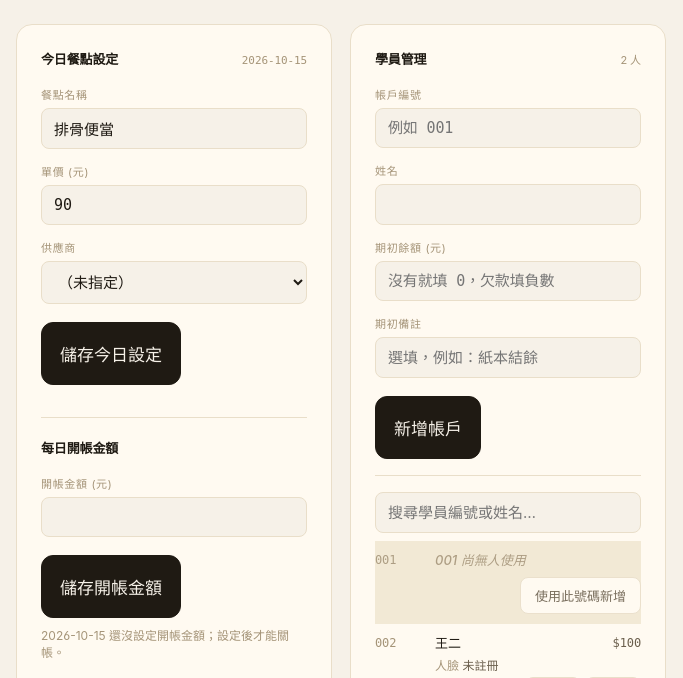
AdminScreen - 學員編號排序、缺號列與改編號 (U3 #7, #9) › 點擊缺號列將號碼帶入新增帳戶表單的帳戶編號
點擊 001 缺號列
Click the element with test id "gap-row-001". click: (508, 582)
box: [375, 541, 641, 624]
(page scrolled)
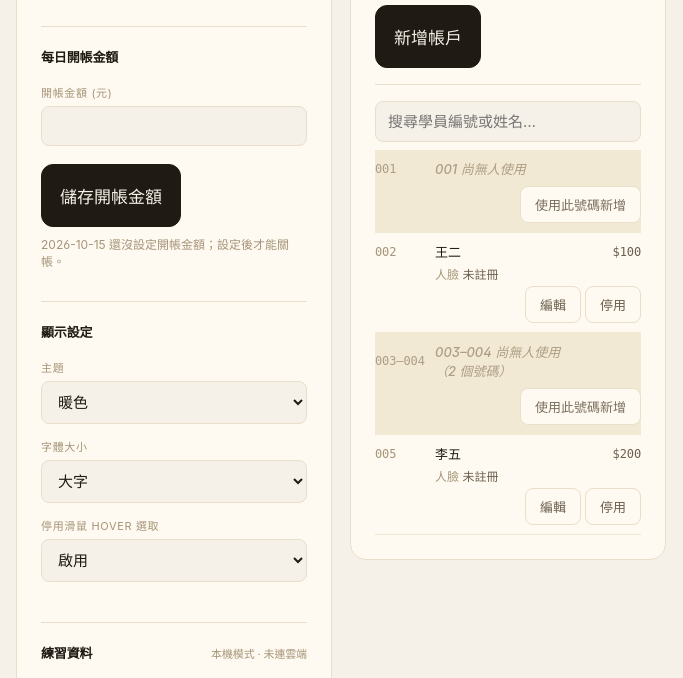
點擊連續缺號列 003–004（帶著第一個號碼 003）
Click the element with test id "gap-row-003". click: (508, 384)
box: [375, 333, 641, 435]
(page scrolled)
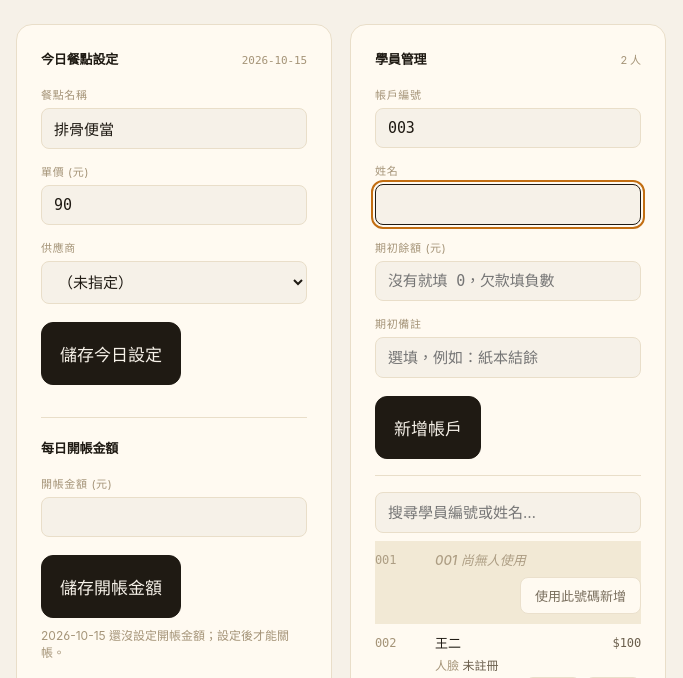
Result: the field labelled "帳戶編號" holds "003" at [375, 108, 641, 148]
